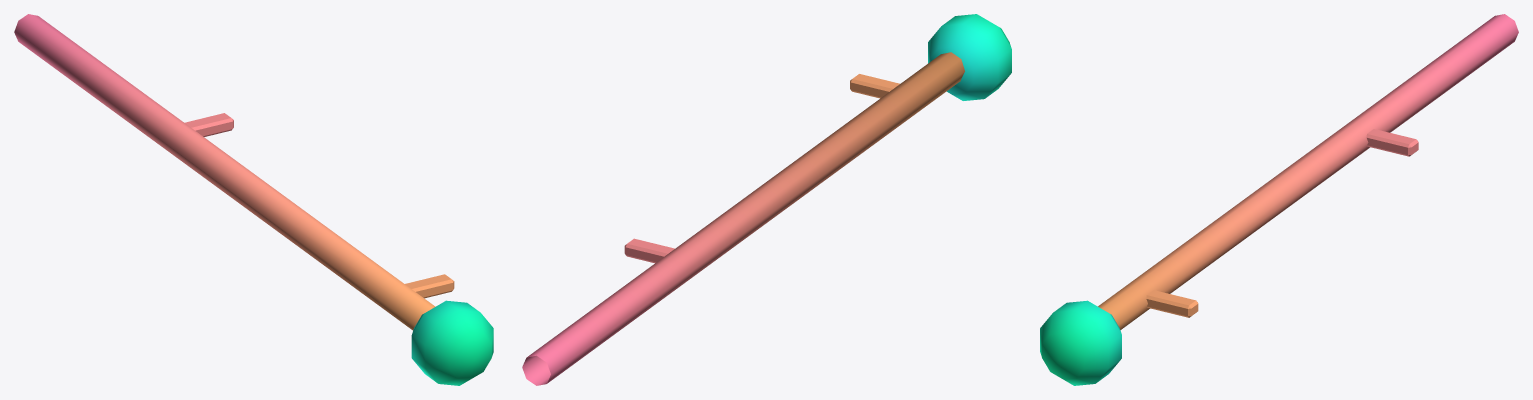
The model's file is DrapeauPoteau.fbx.
The picture shows the model from 3 angles, left to right: view 1: azimuth 30°, elevation 25°; view 2: azimuth 150°, elevation 25°; view 3: azimuth 330°, elevation 25°; orthographic projection. The views are drawn at different scales.
Visible parts, largest first — view 1: Sphere; view 2: Sphere; view 3: Sphere.
Part boxes in pixels (x1,y1,x2,y2): Sphere: (14, 14, 493, 385); Sphere: (522, 14, 1011, 385); Sphere: (1040, 14, 1518, 385).
Size of the model in its own units: 172 by 137 by 1473.
